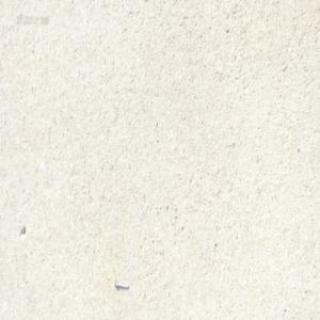Nailtrack_idkeyframe: (112, 278, 128, 289)
